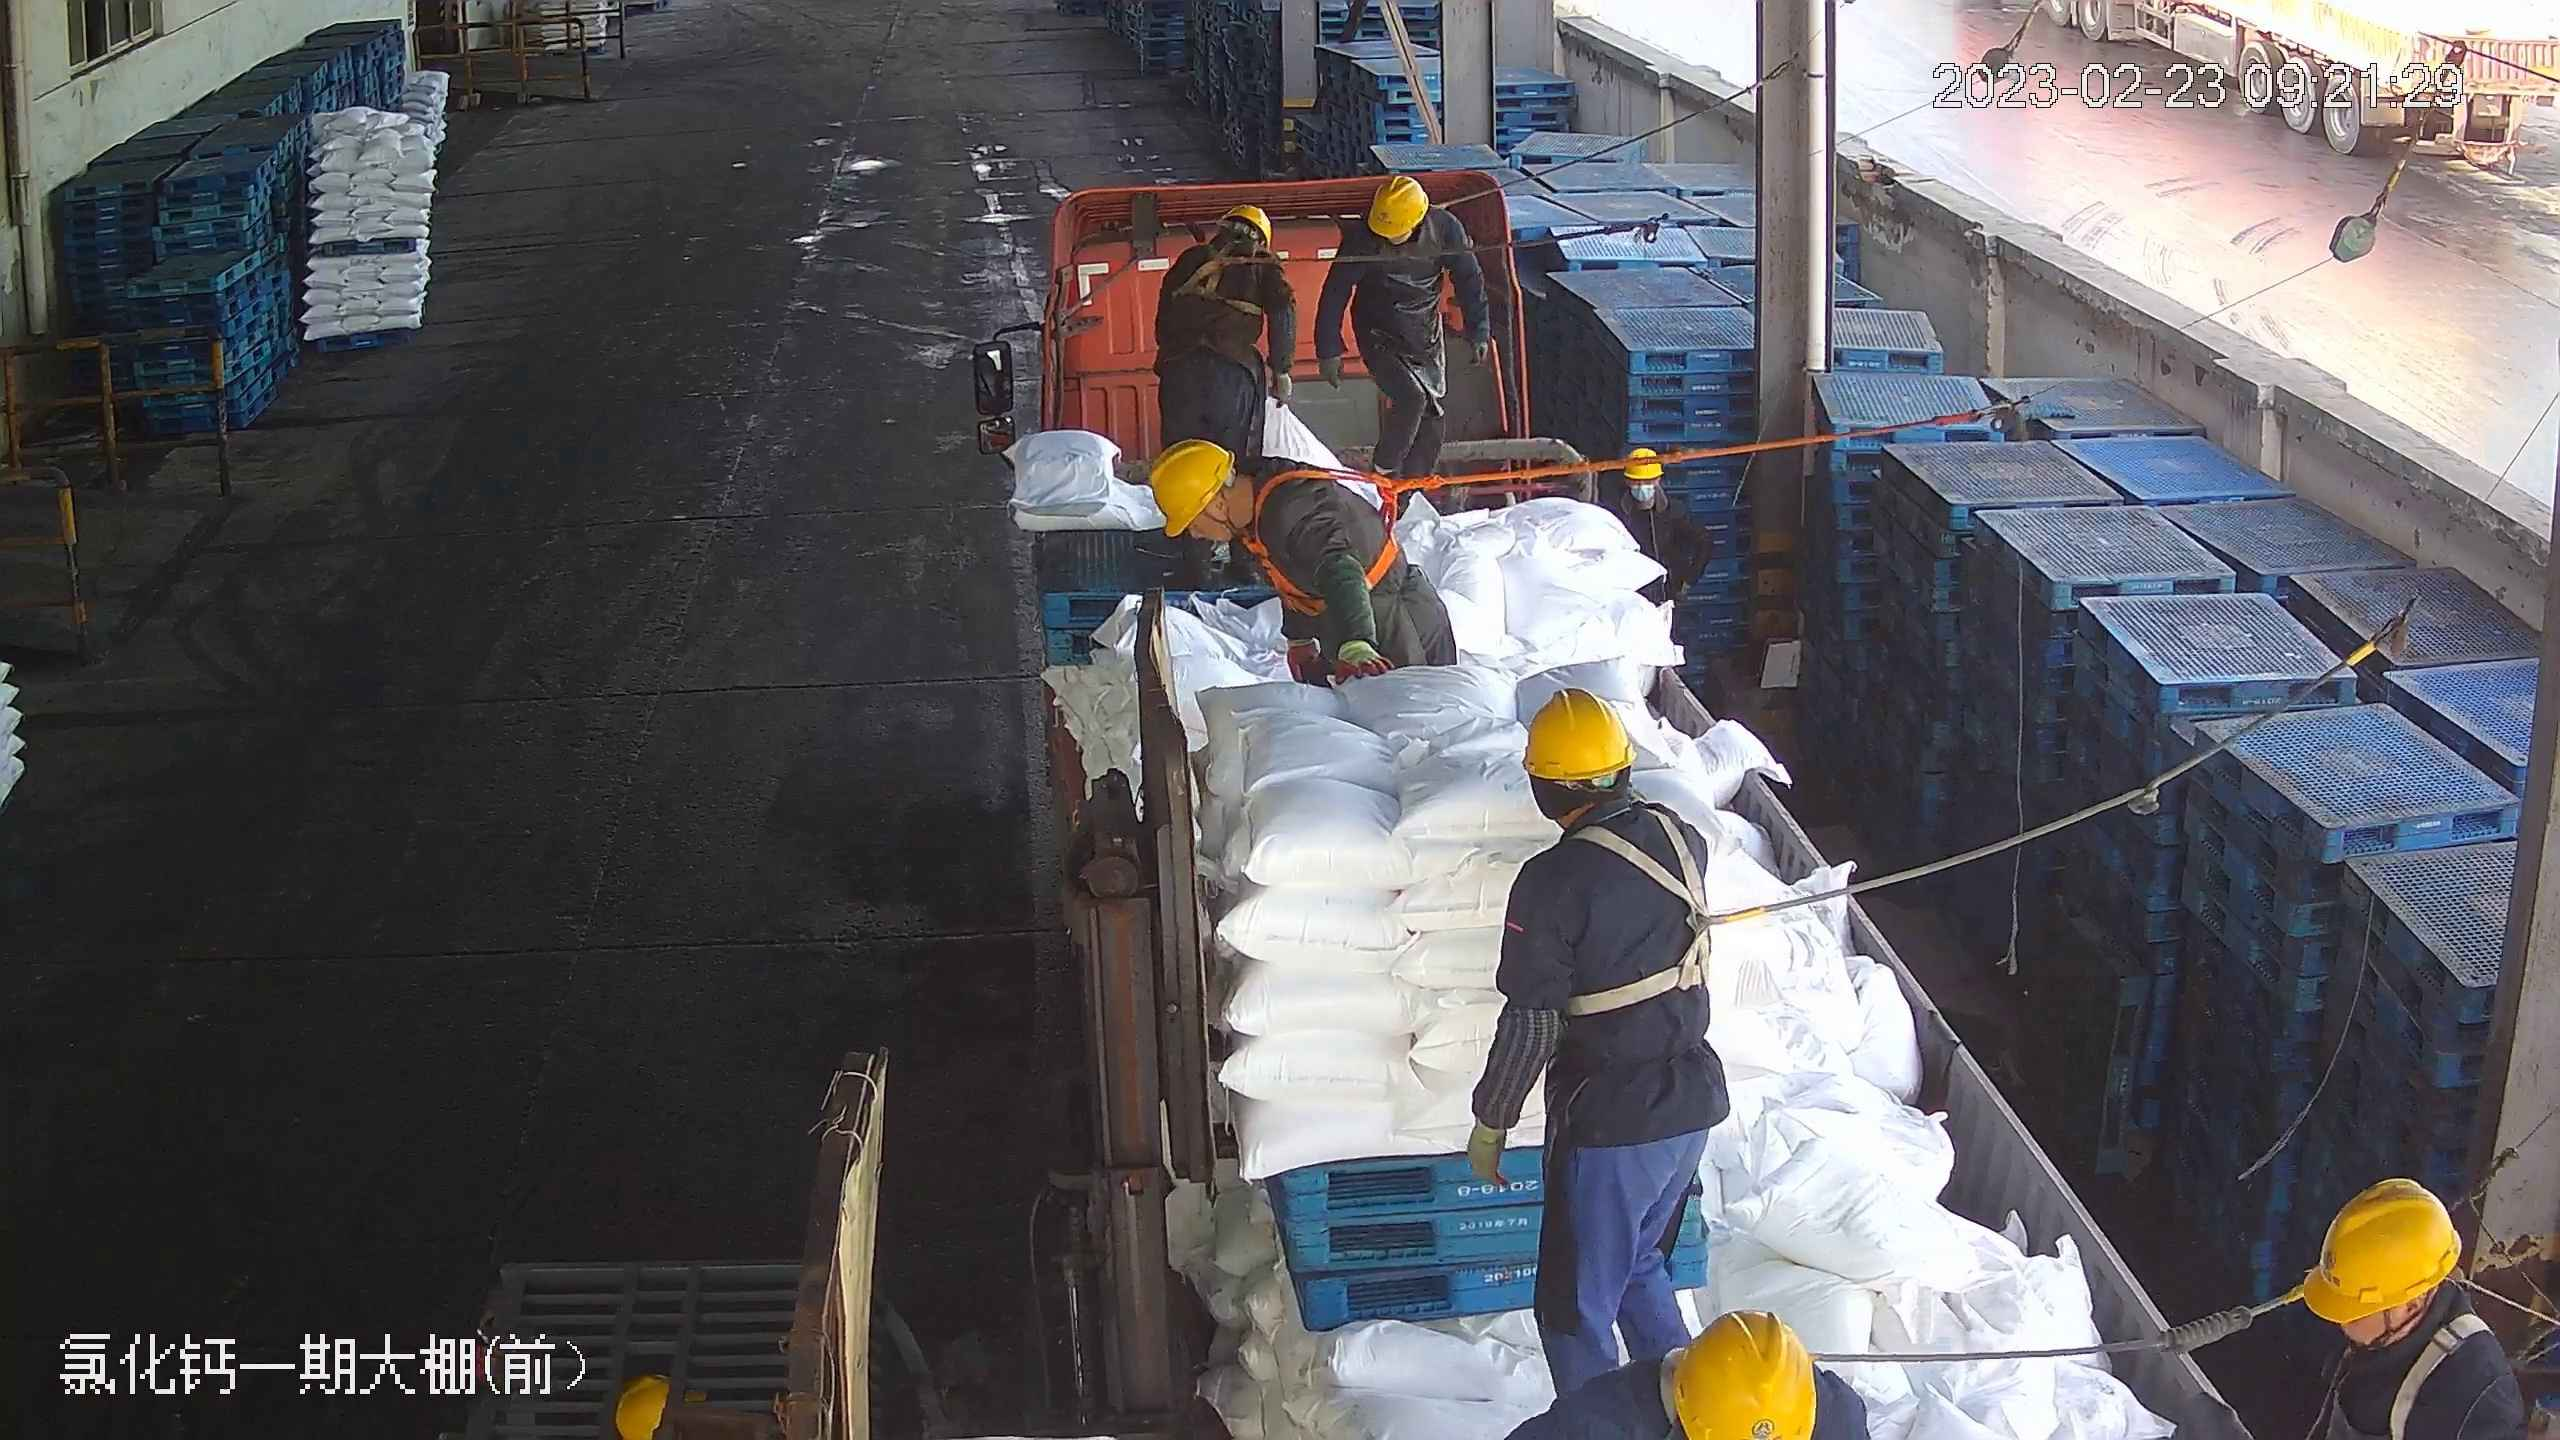belt: (1555, 808, 1719, 1023), (1249, 459, 1417, 632), (2374, 1310, 2494, 1439), (1183, 227, 1273, 307), (1662, 1335, 1703, 1432)
head: (2294, 1181, 2541, 1439), (1504, 684, 1717, 909), (1150, 442, 1322, 573), (1330, 170, 1474, 310), (1169, 199, 1289, 295)
helmet: (2308, 1175, 2461, 1317), (1666, 1306, 1819, 1440), (1514, 681, 1639, 779), (1145, 437, 1238, 530), (1363, 169, 1431, 238), (1221, 202, 1277, 247), (1619, 444, 1667, 482)
people: (1490, 694, 1734, 1400), (1330, 178, 1474, 481), (1157, 200, 1289, 441)
truck: (975, 151, 2255, 1440)
